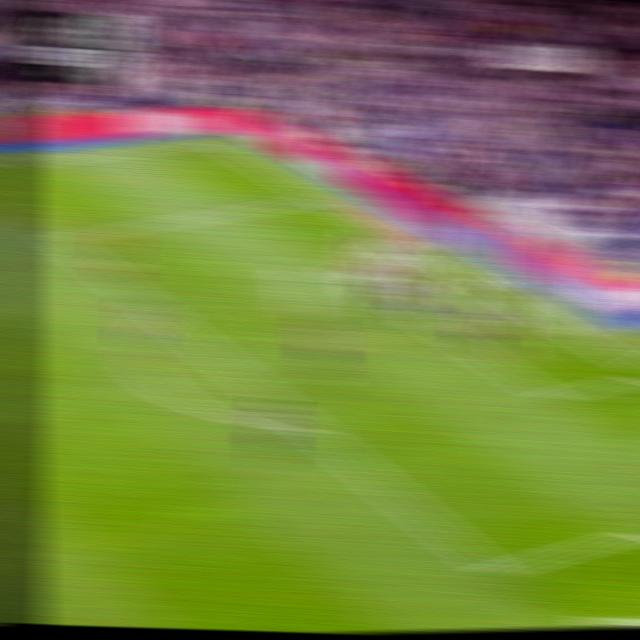bigarea_bottom_inner: (475, 551, 515, 591)
bigarea_top_inner: (43, 226, 76, 250)
bigarea_top_outter: (304, 188, 336, 206)
bottom_arc_area_intersection: (294, 415, 329, 442)
corner: (200, 133, 234, 148)
smallarea_top_inner: (323, 258, 357, 281)
top_arc_area_intersection: (146, 304, 180, 326)
